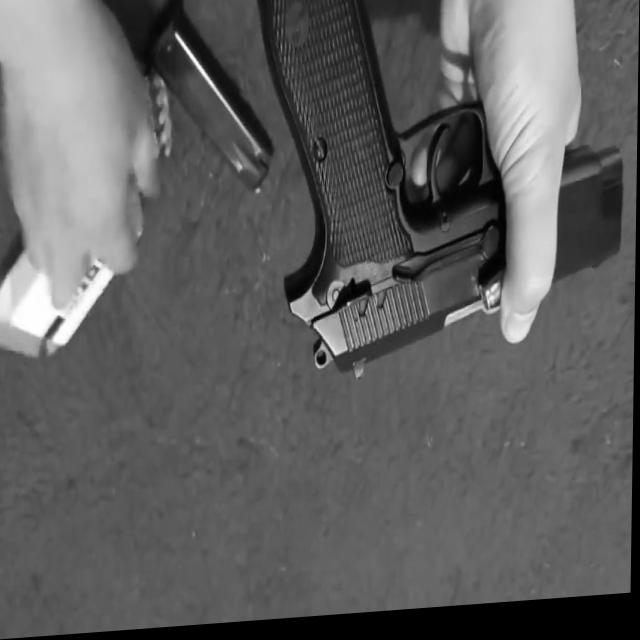handgun: (243, 0, 628, 407)
